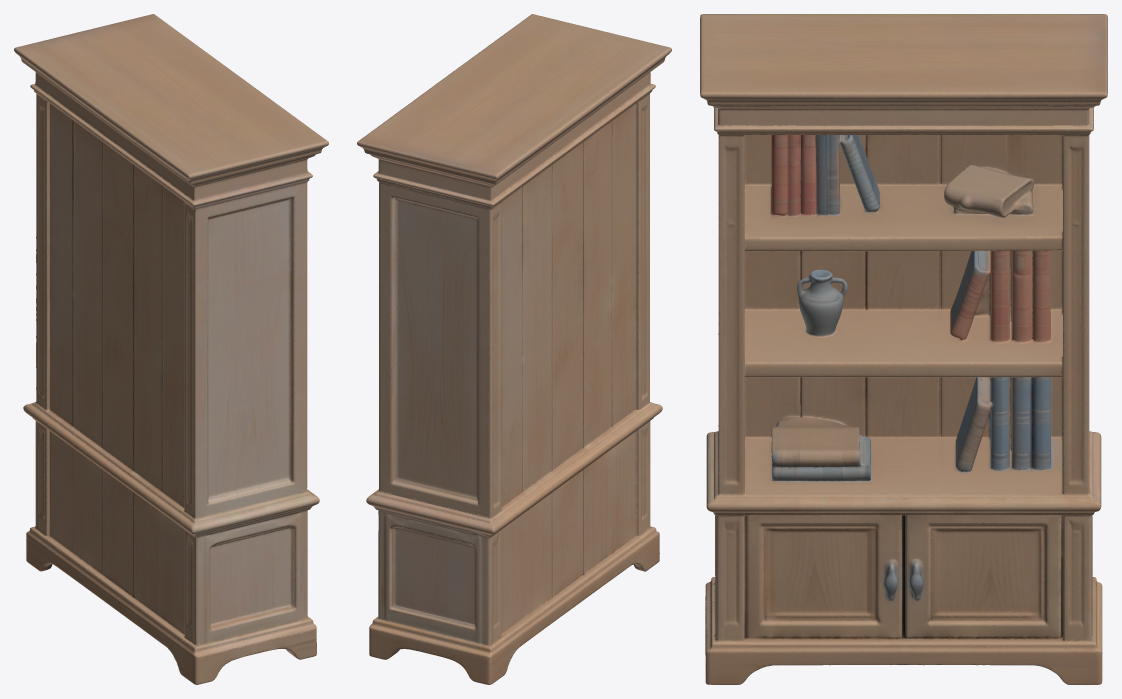
File: detailed_realistic_model_antiquebookshelf_26.glb
The picture shows the model from 3 angles, left to right: view 1: azimuth 30°, elevation 25°; view 2: azimuth 150°, elevation 25°; view 3: azimuth 270°, elevation 25°; orthographic projection. The views are drawn at different scales.
Parts seen in each view (by area): view 1: tripo_node_5a9c08d9-f37c-45ef-ac31-6f63e34a8366; view 2: tripo_node_5a9c08d9-f37c-45ef-ac31-6f63e34a8366; view 3: tripo_node_5a9c08d9-f37c-45ef-ac31-6f63e34a8366.
Boxes of the visible parts, left/top/right/bottom form: tripo_node_5a9c08d9-f37c-45ef-ac31-6f63e34a8366: left=14, top=14, right=328, bottom=684; tripo_node_5a9c08d9-f37c-45ef-ac31-6f63e34a8366: left=357, top=14, right=671, bottom=684; tripo_node_5a9c08d9-f37c-45ef-ac31-6f63e34a8366: left=700, top=14, right=1107, bottom=684.
Bounding box in the file's own units: 0.2879 × 1 × 0.6182.
1 material, 1 textured.
